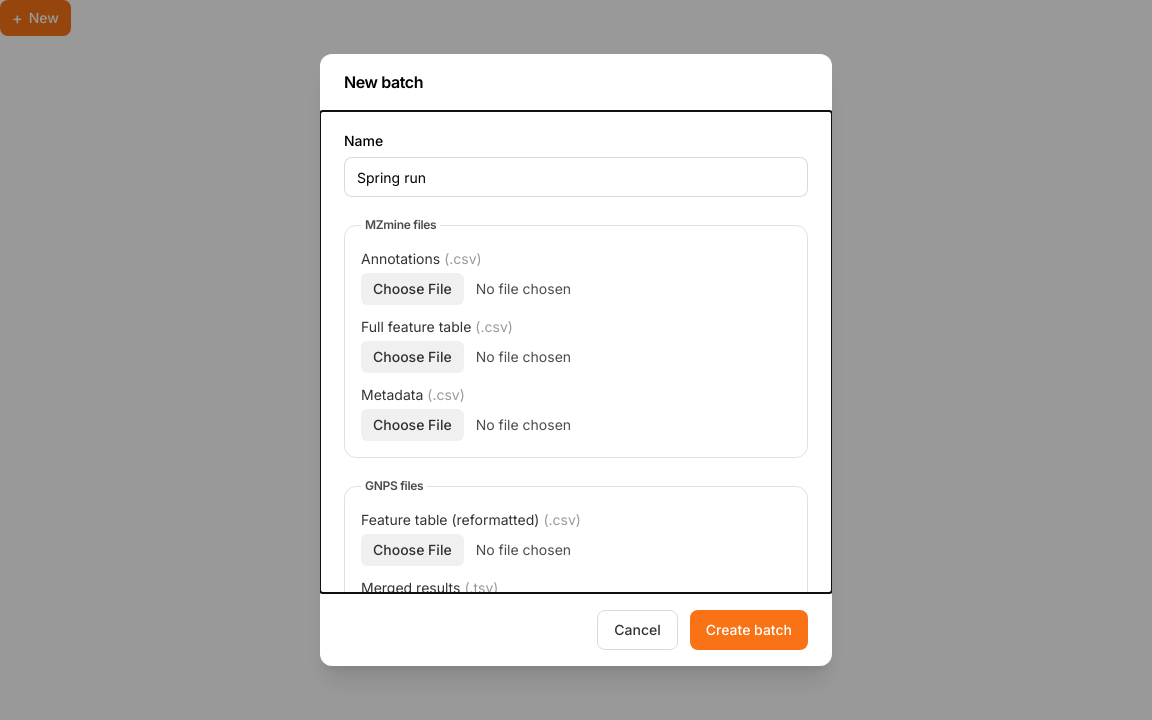
NewBatchDialog › submission › clears the invalid state on the name field once the user edits it
Earlier steps of the test are not shown.
Step 1. Submit the form, box [320,111,832,666]
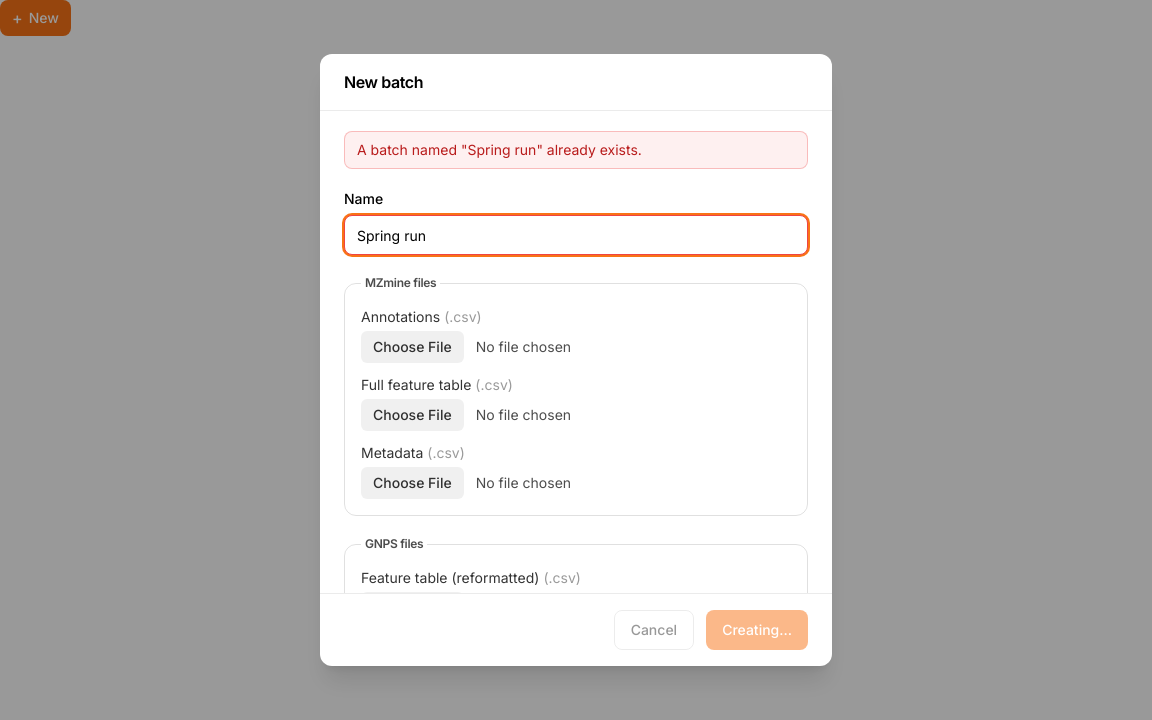
Expected: the field labelled "Name" is marked as invalid
Step 2. Replace the text in the field labelled "Name" with "Spring run 2" → (576, 235), box [344,215,808,255]
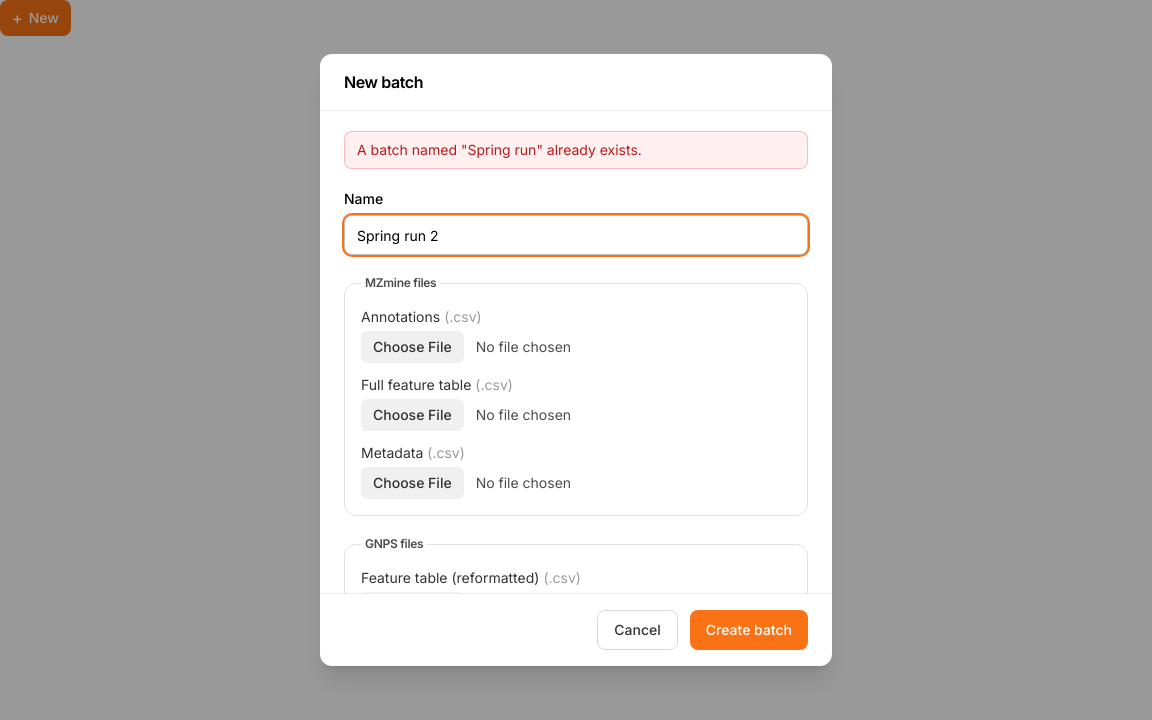
Expected: the field labelled "Name" does not have attribute aria-invalid, [344,215,808,255]
